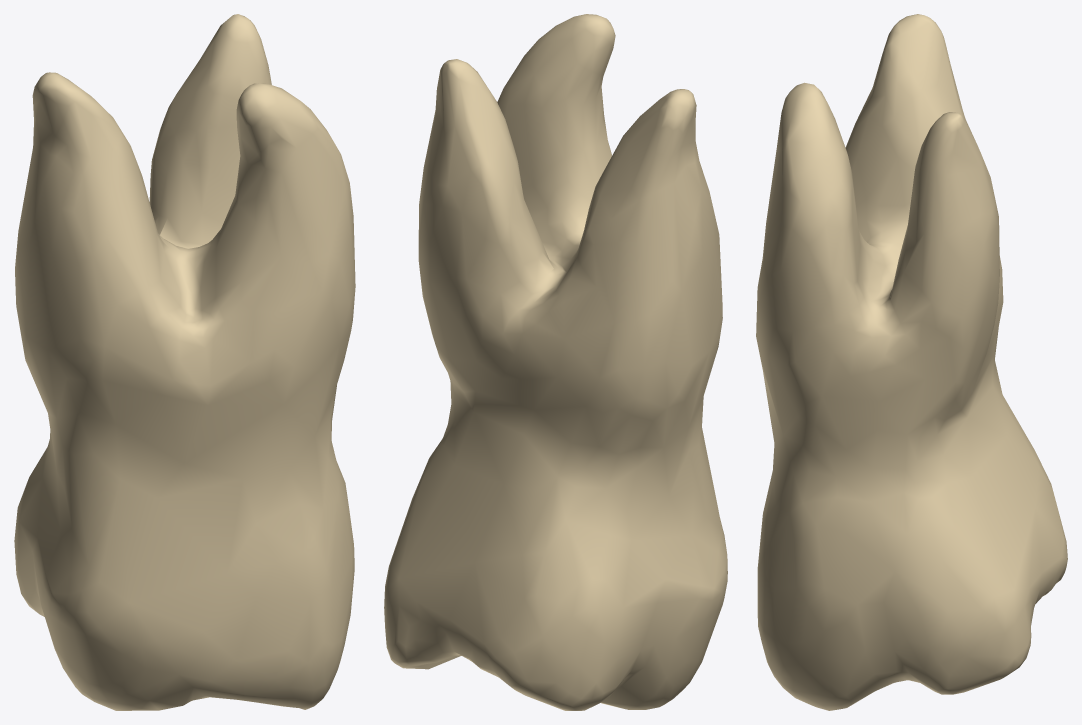
Rendered from tooth-26.glb.
The picture shows the model from 3 angles, left to right: view 1: azimuth 30°, elevation 25°; view 2: azimuth 150°, elevation 25°; view 3: azimuth 270°, elevation 25°; orthographic projection. The views are drawn at different scales.
Visible parts, largest first — view 1: tooth-26; view 2: tooth-26; view 3: tooth-26.
Boxes of the visible parts, x1,y1,x2,y2 form: tooth-26: [14, 14, 355, 710]; tooth-26: [384, 14, 727, 710]; tooth-26: [756, 14, 1067, 710].
Bounding box in the file's own units: 0.2894 × 0.6143 × 0.2885.
